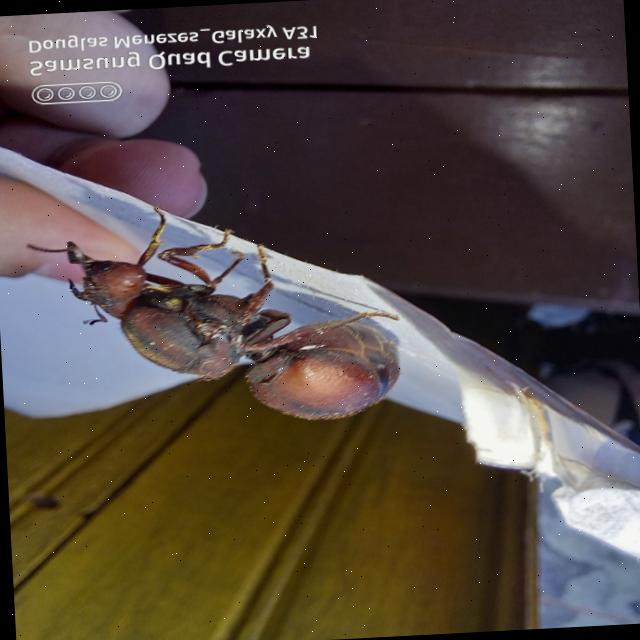Alive-Female-Dealate: (24, 194, 406, 436)
